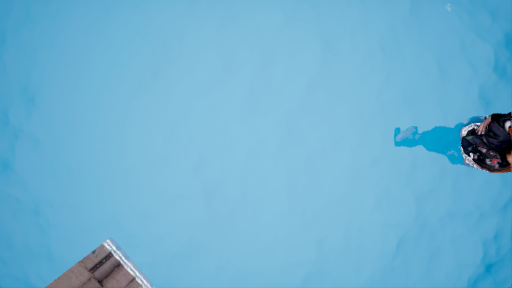person: (390, 114, 512, 178)
